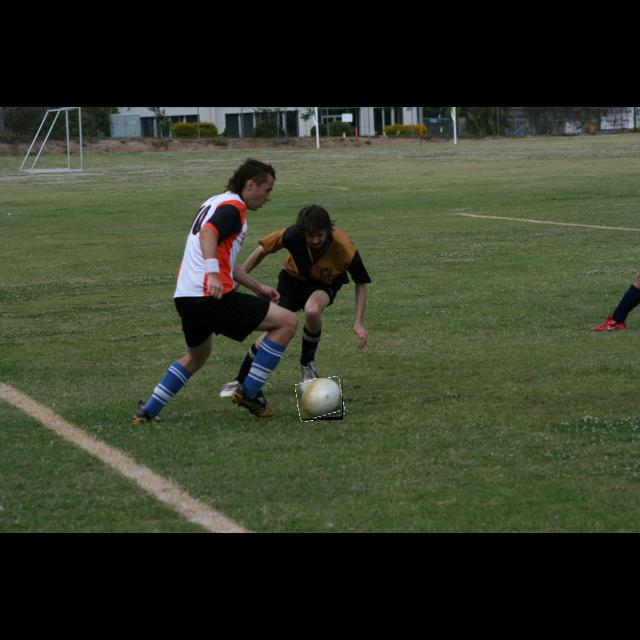Football: (297, 378, 343, 420)
